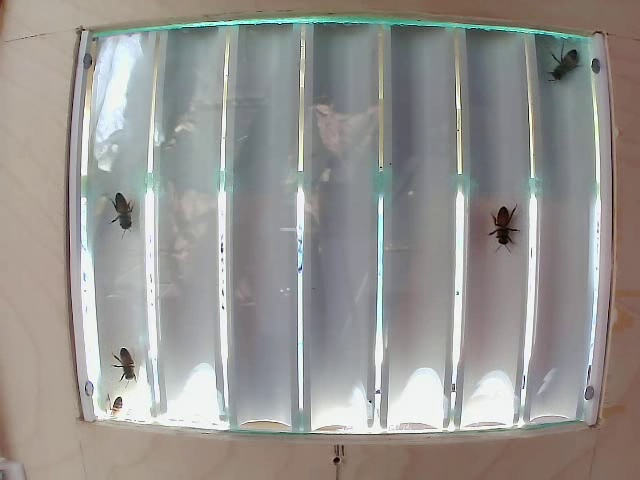bee: (104, 334, 148, 381), (107, 174, 133, 235), (486, 204, 514, 256), (559, 30, 583, 84)
